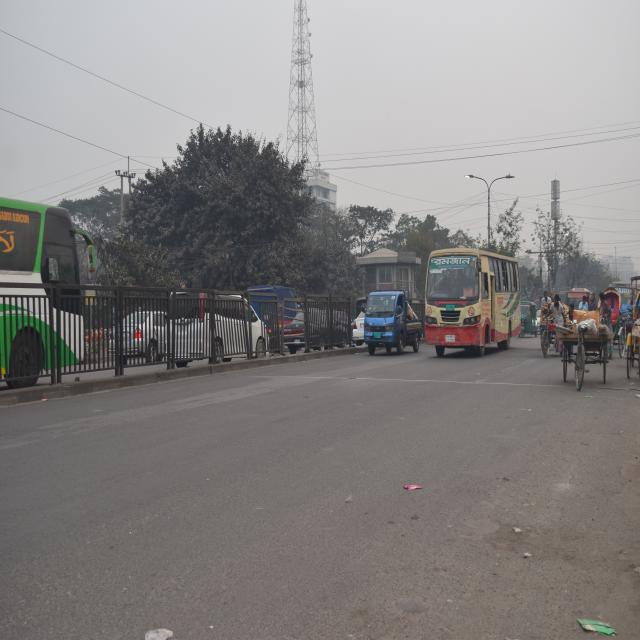bus: (0, 198, 84, 390), (424, 246, 522, 351)
microbus: (164, 288, 262, 352)
pickup-van: (364, 285, 421, 352)
